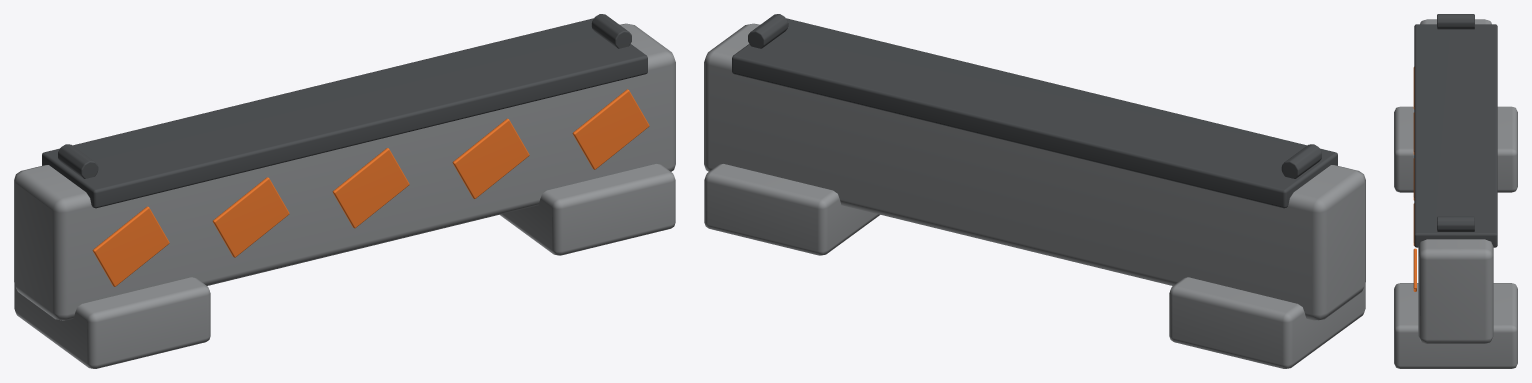
The model's file is concrete_barricade.glb.
3 renders of one model, left to right at view 1: azimuth 30°, elevation 25°; view 2: azimuth 150°, elevation 25°; view 3: azimuth 270°, elevation 25°, orthographic. The views are drawn at different scales.
Parts seen in each view (by area): view 1: Barrier body, Top rail, Left foot, Right foot, Hazard stripe.003, Hazard stripe.001, Hazard stripe.004, Hazard stripe, Hazard stripe.002, Rebar loop, Rebar loop.001; view 2: Barrier body, Top rail, Left foot, Right foot, Rebar loop, Rebar loop.001; view 3: Top rail, Barrier body, Right foot, Left foot, Rebar loop, Rebar loop.001, Hazard stripe.004.
Boxes of the visible parts, x1=… form: Barrier body: x1=14, y1=23, x2=675, y2=320; Top rail: x1=42, y1=18, x2=647, y2=208; Left foot: x1=14, y1=277, x2=210, y2=368; Right foot: x1=499, y1=164, x2=675, y2=255; Hazard stripe.003: x1=452, y1=118, x2=529, y2=198; Hazard stripe.001: x1=212, y1=177, x2=289, y2=257; Hazard stripe.004: x1=572, y1=89, x2=649, y2=169; Hazard stripe: x1=92, y1=206, x2=169, y2=286; Hazard stripe.002: x1=332, y1=148, x2=409, y2=228; Rebar loop: x1=58, y1=144, x2=98, y2=178; Rebar loop.001: x1=591, y1=14, x2=631, y2=48; Barrier body: x1=704, y1=23, x2=1365, y2=320; Top rail: x1=732, y1=18, x2=1337, y2=208; Left foot: x1=1169, y1=277, x2=1365, y2=368; Right foot: x1=704, y1=164, x2=880, y2=255; Rebar loop: x1=1281, y1=144, x2=1321, y2=178; Rebar loop.001: x1=748, y1=14, x2=788, y2=48; Top rail: x1=1414, y1=24, x2=1497, y2=247; Barrier body: x1=1418, y1=19, x2=1493, y2=343; Right foot: x1=1394, y1=283, x2=1517, y2=368; Left foot: x1=1394, y1=106, x2=1517, y2=192; Rebar loop: x1=1437, y1=14, x2=1474, y2=29; Rebar loop.001: x1=1437, y1=216, x2=1474, y2=231; Hazard stripe.004: x1=1413, y1=248, x2=1416, y2=291.
Bounding box in the file's own units: 4.15 × 1.18 × 0.92.
